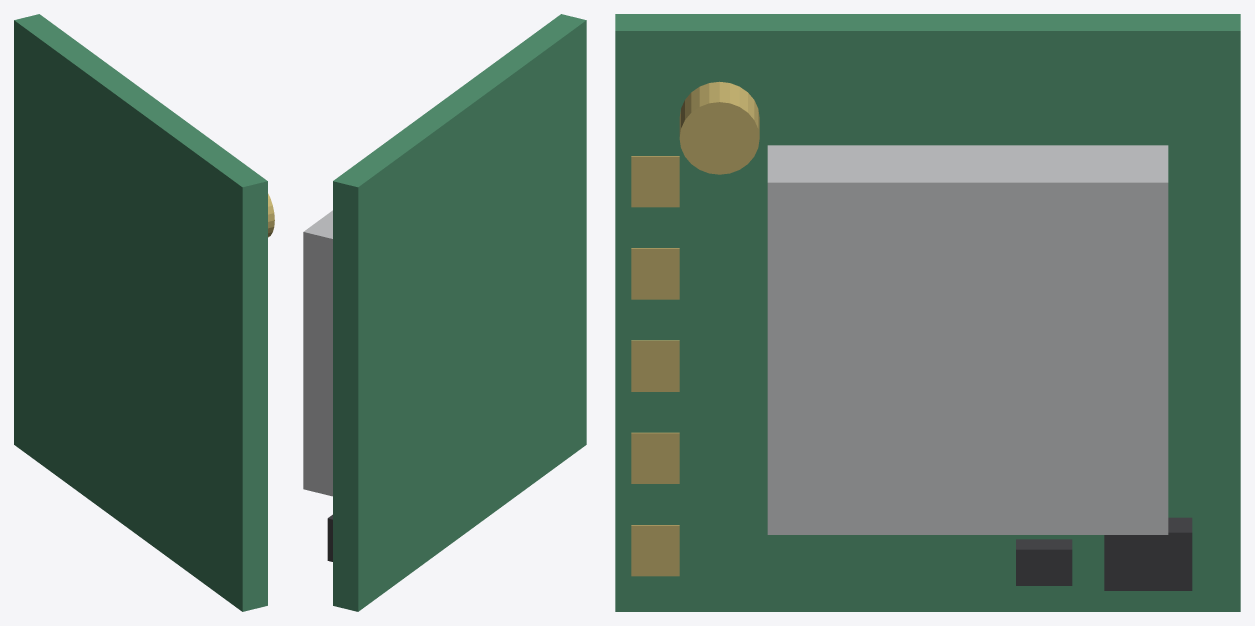
File: gps_module.glb
3 renders of one model, left to right at view 1: azimuth 30°, elevation 25°; view 2: azimuth 150°, elevation 25°; view 3: azimuth 270°, elevation 25°, orthographic. The views are drawn at different scales.
Visible parts, largest first — view 1: c0; view 2: c0, c1; view 3: c0, c1, c2, c3.
Part boxes in pixels (x1,y1,x2,y2): c0: [14, 14, 267, 611]; c0: [333, 14, 586, 611]; c1: [303, 210, 332, 496]; c0: [615, 14, 1240, 611]; c1: [767, 145, 1168, 534]; c2: [631, 81, 759, 576]; c3: [1016, 517, 1192, 590].
Bounding box in the file's own units: 3.2 × 16 × 15.6.
